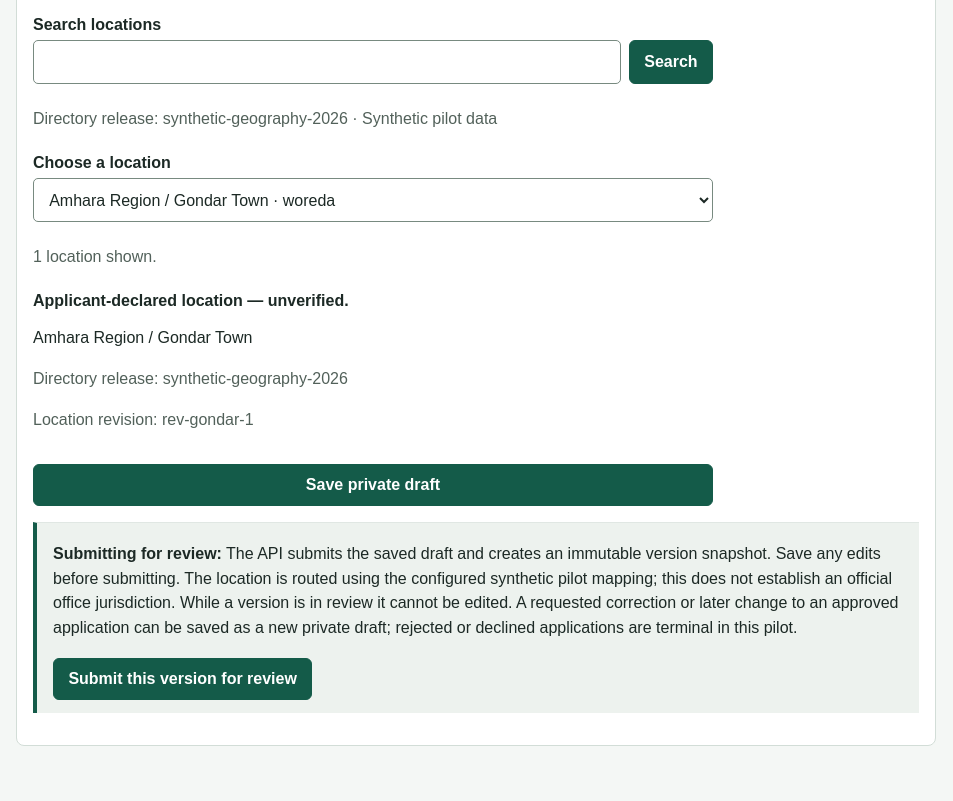
Scenario: HotelApplicantScreen › preserves the saved draft inputs and state when submission fails
This screenshot has width=953, height=801.
(page scrolled)
What coordinates should you click on to do the following:
click the button "Submit this version for review"
I would click on:
 (183, 680)
Its box is top-left (53, 658), bottom-right (312, 700).
(page scrolled)
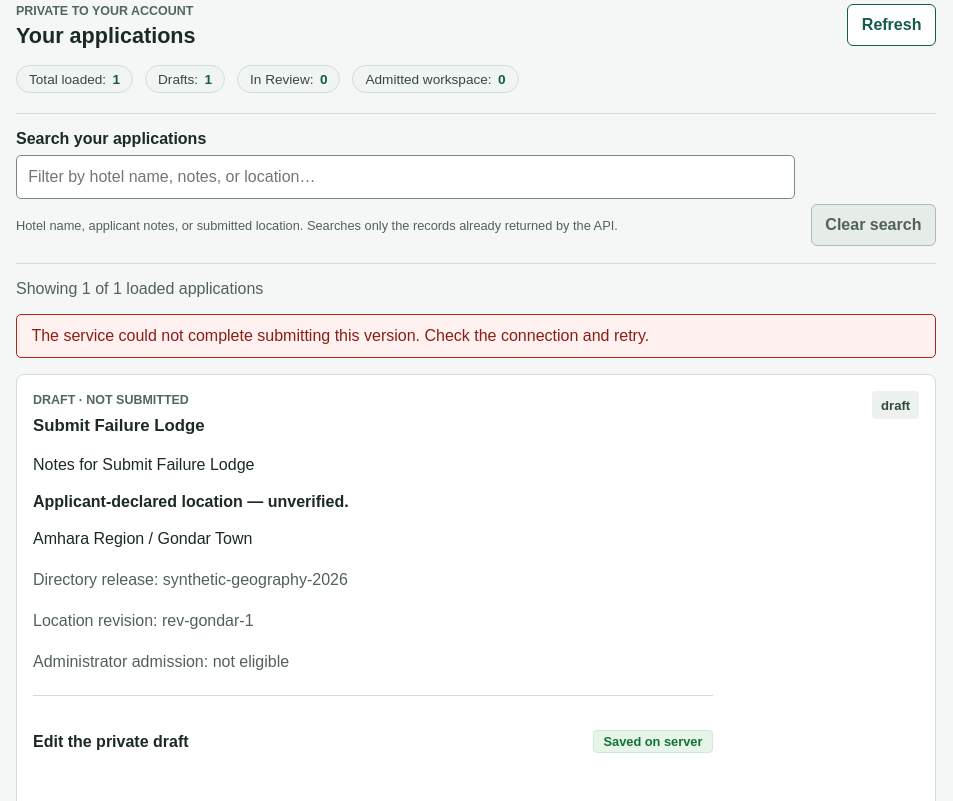
Check: the text "Saved on server" is shown, box top-left (593, 730), bottom-right (713, 754)
Check: the 2nd message is shown, box top-left (16, 314), bottom-right (936, 358)
